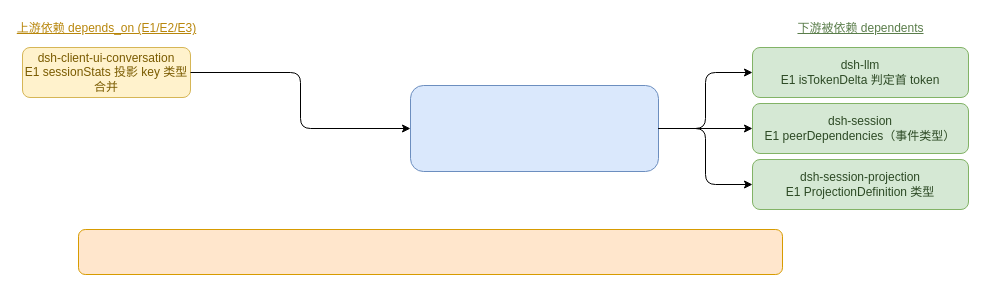
Some shapes in this 986 by 292 pixel diagram are drawn without their labels. Here are the shapes that lost their labels. From the top down, the box of each, then its label:
(410, 84, 658, 172): dsh-session-stats @deepseek-ai/dsh-session-stats
(78, 228, 782, 274): provides 关键项 • sessionStats 投影单元（key 'sessionStats…
